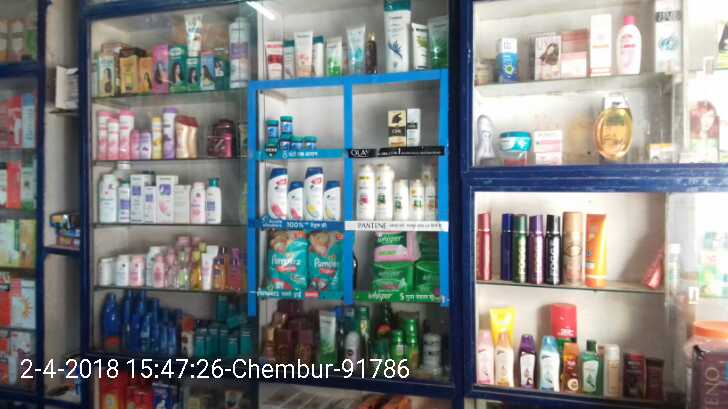vicks: (265, 113, 316, 149)
